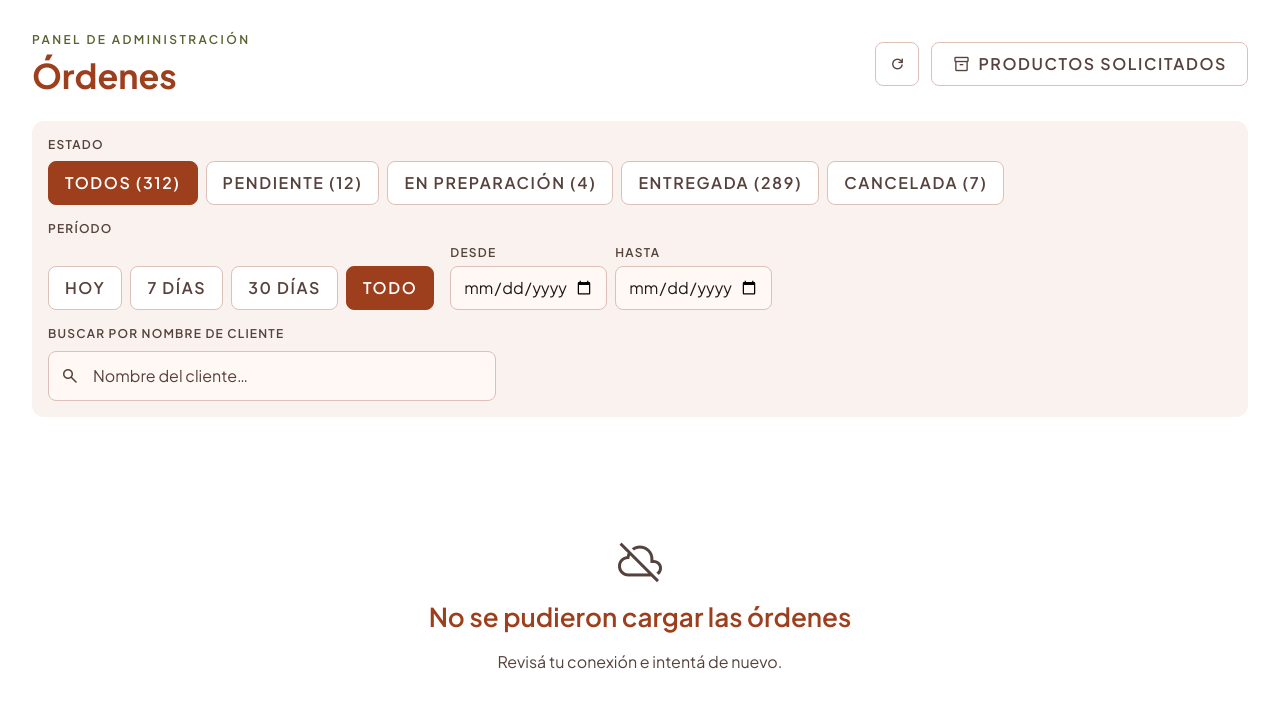
Test case: AdminOrdenes — estados de la pantalla › un error de carga muestra EstadoVacio con cloud_off, y un fetch exitoso lo limpia
Check: the heading "Órdenes" is shown, box [32, 54, 177, 97]
Check: the heading "No se pudieron cargar las órdenes" is shown, box [429, 601, 851, 634]
Click the button named "Actualizar".
click(897, 64)  # box [875, 42, 919, 86]
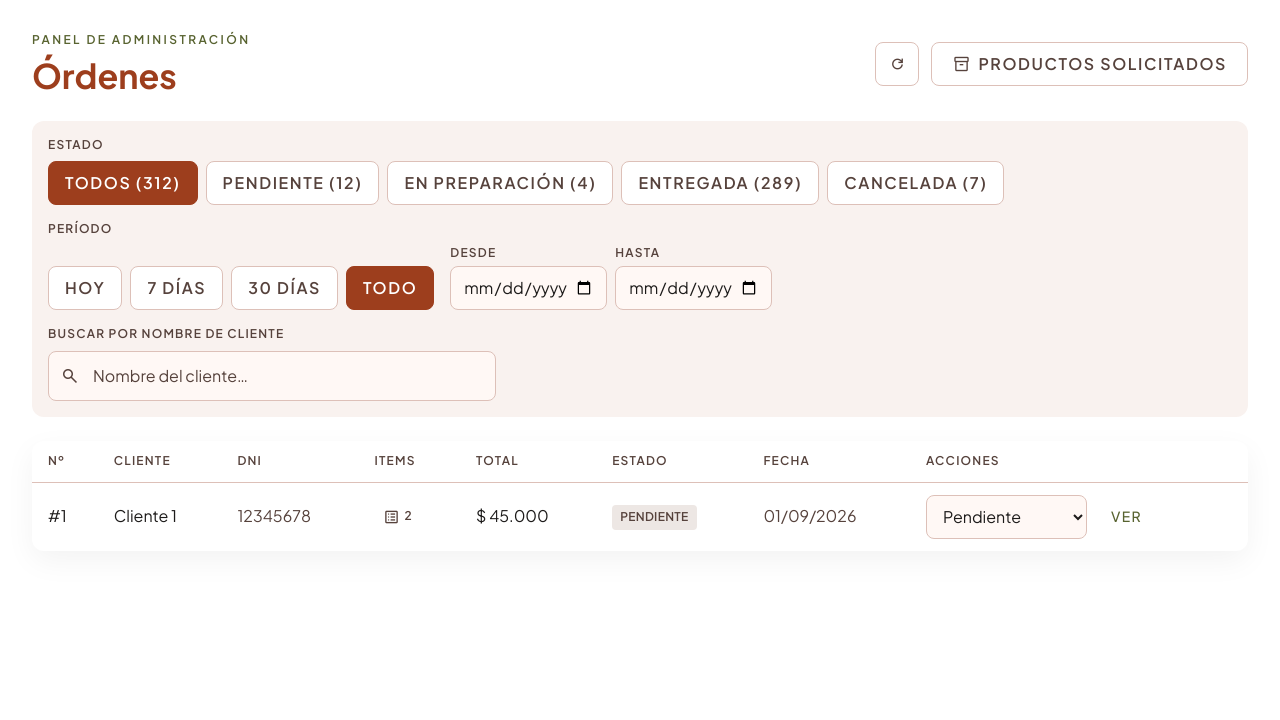
Check: the heading "No se pudieron cargar las órdenes" is gone
Check: the text "#1" is shown, box [32, 482, 98, 550]
